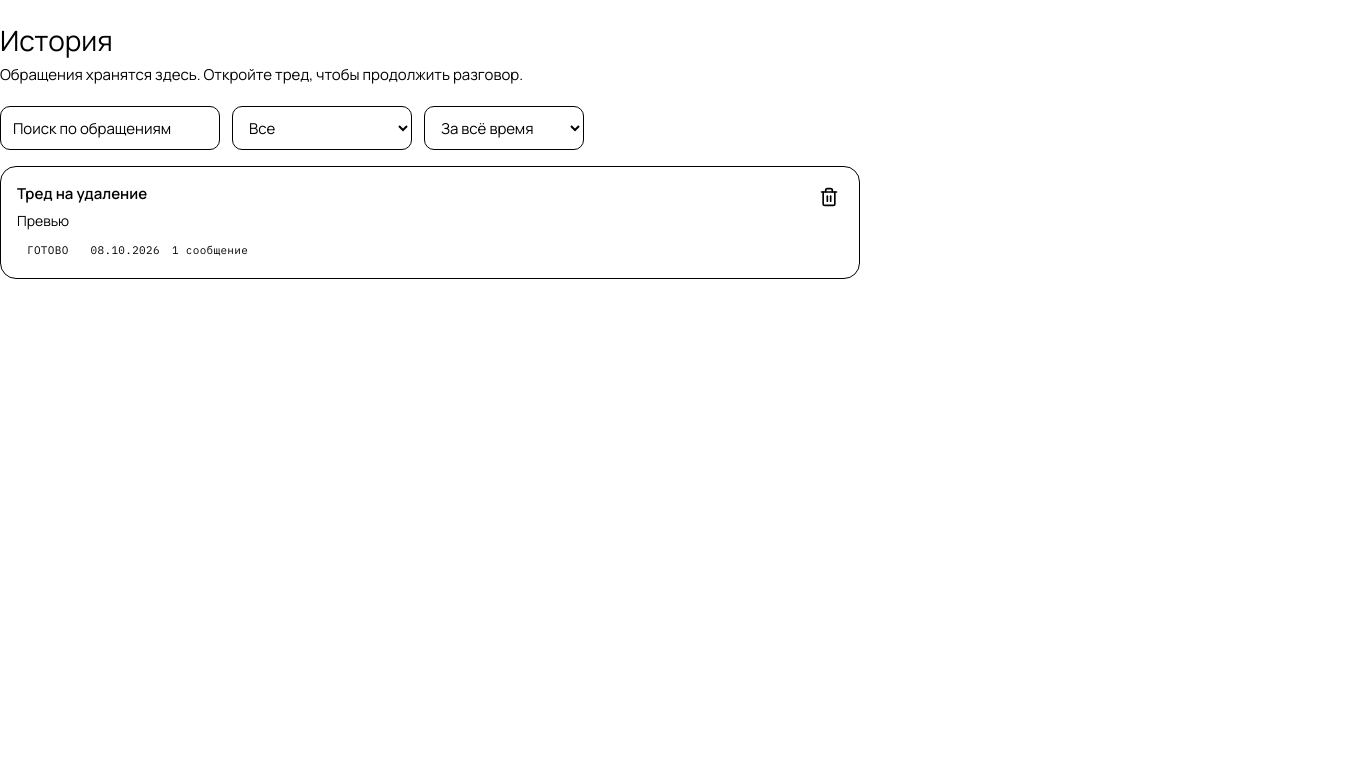
Test case: HistoryPage › удаляет тред через ConfirmModal (DELETE /threads/:id) и показывает toast
Expected: the text "Тред на удаление" is shown, [17, 183, 147, 204]
Step 1. Click the button named "Удалить: Тред на удаление" → (829, 197), box [807, 175, 851, 219]
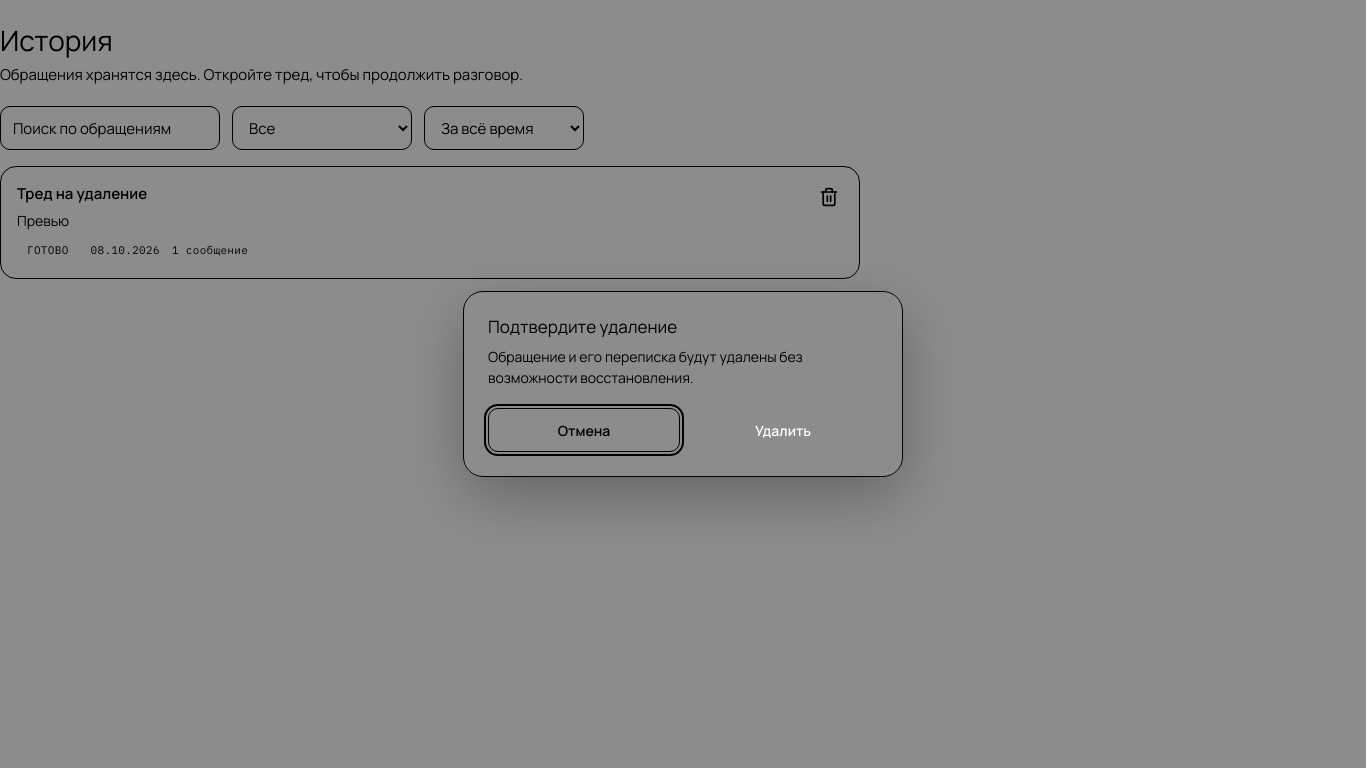
Step 2. Click the button "Удалить" → (783, 430), box [688, 408, 878, 452]
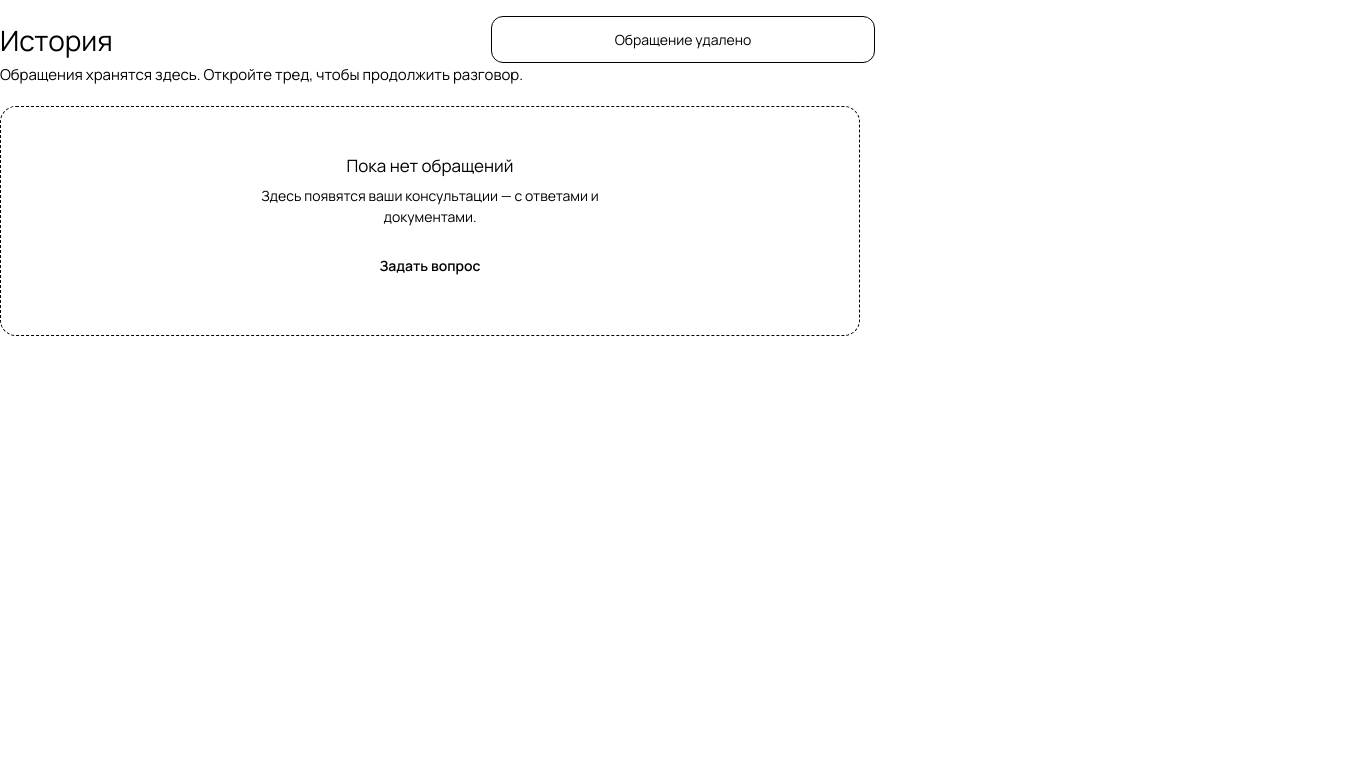
Now the link "Тред на удаление" is gone
Now the text "Обращение удалено" is shown, box [491, 16, 875, 63]
